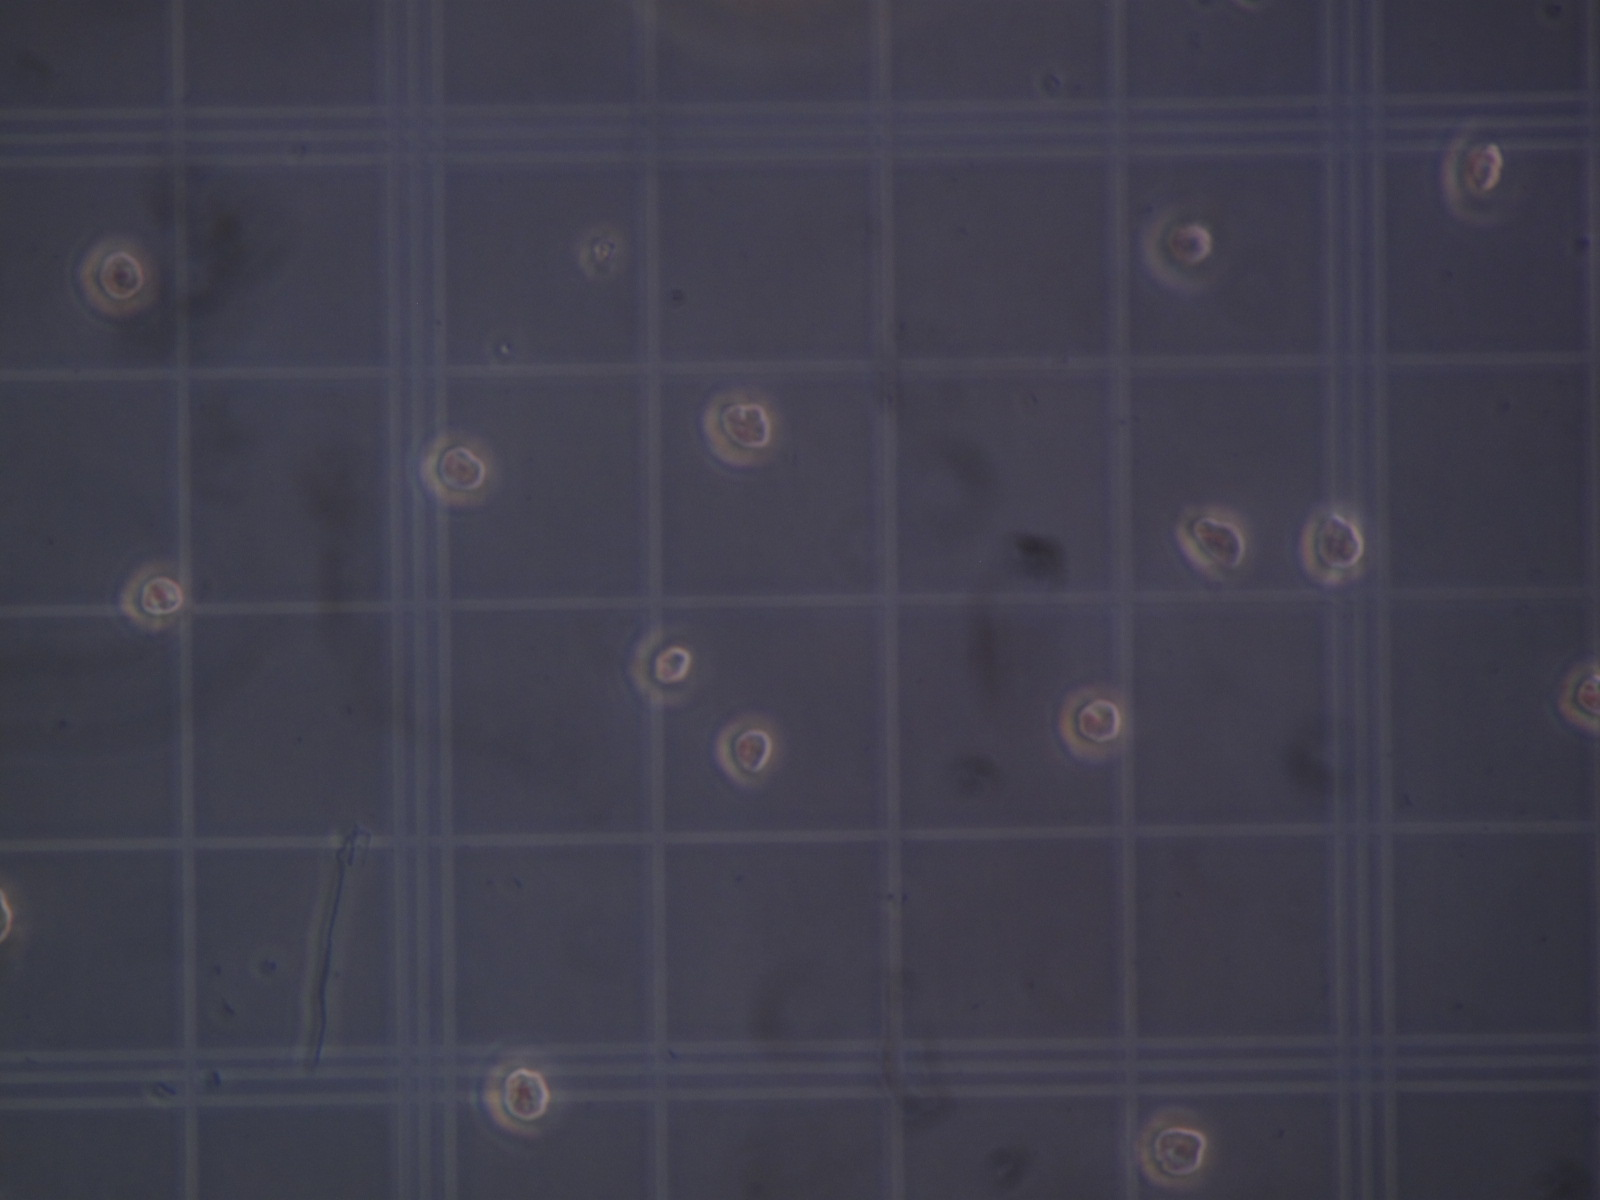hemo: (1136, 1105, 1214, 1187), (1140, 205, 1214, 291), (78, 237, 156, 316), (1440, 134, 1506, 224), (1175, 505, 1247, 582), (1057, 684, 1129, 761), (629, 626, 695, 707), (420, 434, 494, 505), (702, 392, 774, 466), (483, 1059, 551, 1136), (1299, 508, 1364, 584), (716, 713, 782, 787), (118, 562, 185, 632), (1558, 664, 1600, 732), (580, 228, 624, 279), (1, 871, 13, 950)
